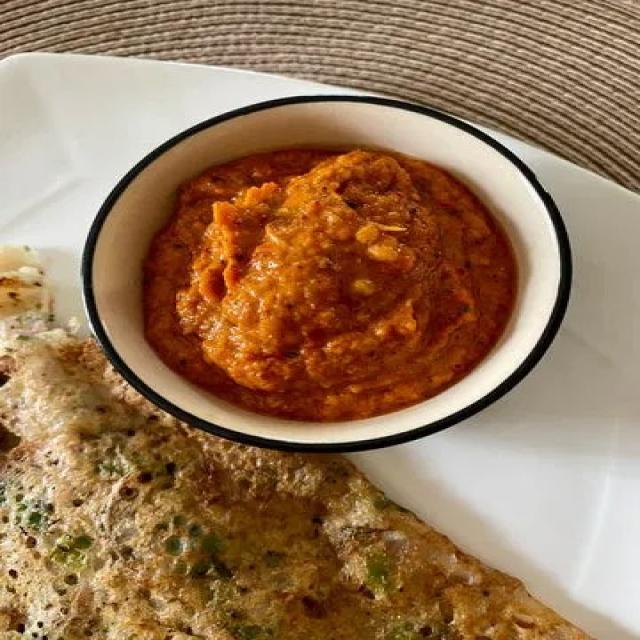kaara chutney: (104, 136, 548, 445)
